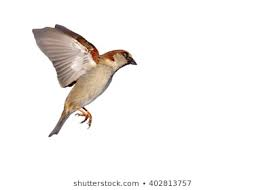hsparrow: (26, 21, 138, 140)
